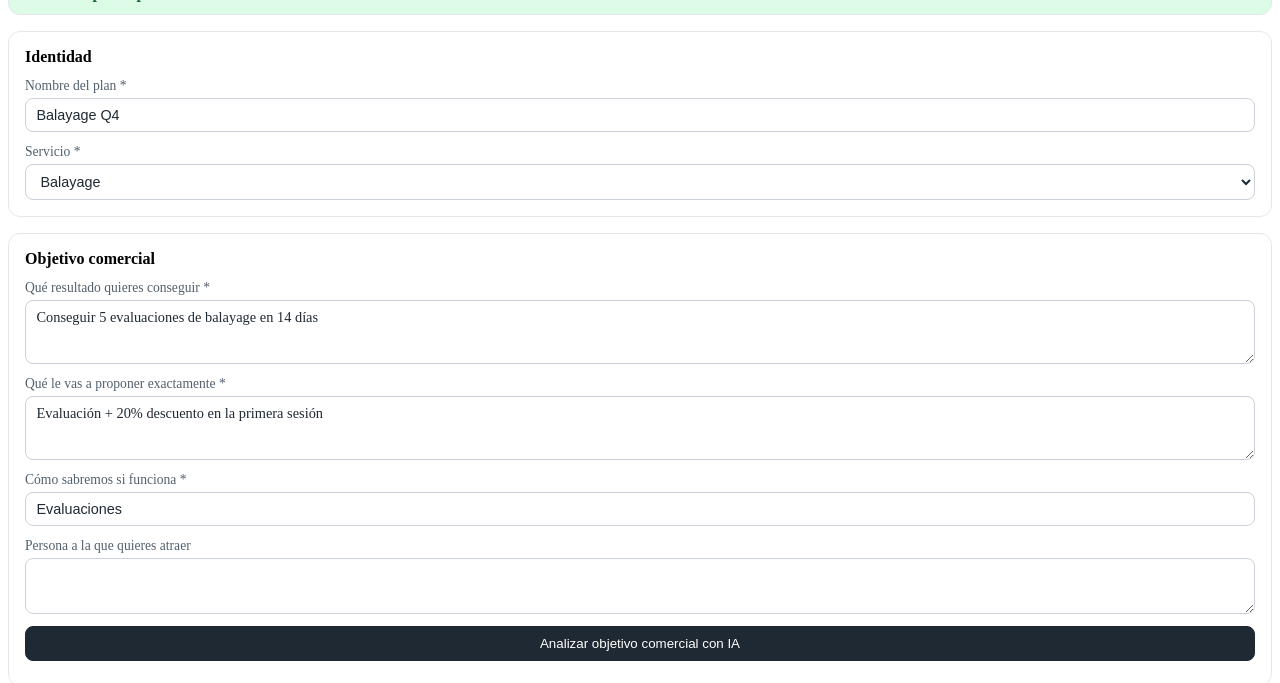
Scenario: CampaignBriefForm · Analizar objetivo comercial con IA › muestra mensaje accesible cuando la IA falla
Click the button with test id "cb-suggest-rules": point(640, 643) [25,626,1255,661]
(page scrolled)
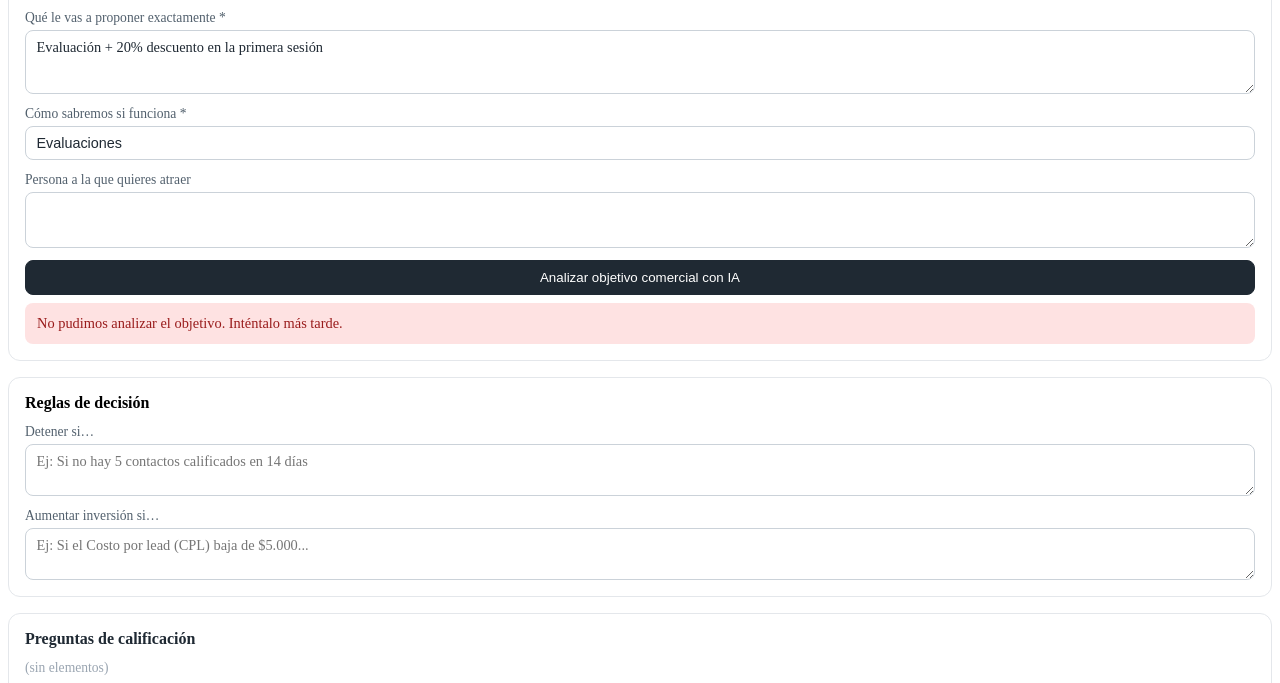
Result: the message with test id "cb-suggest-rules-error" reads "No pudimos analizar el objetivo. Inténtalo más tarde." at [37,315,343,331]
